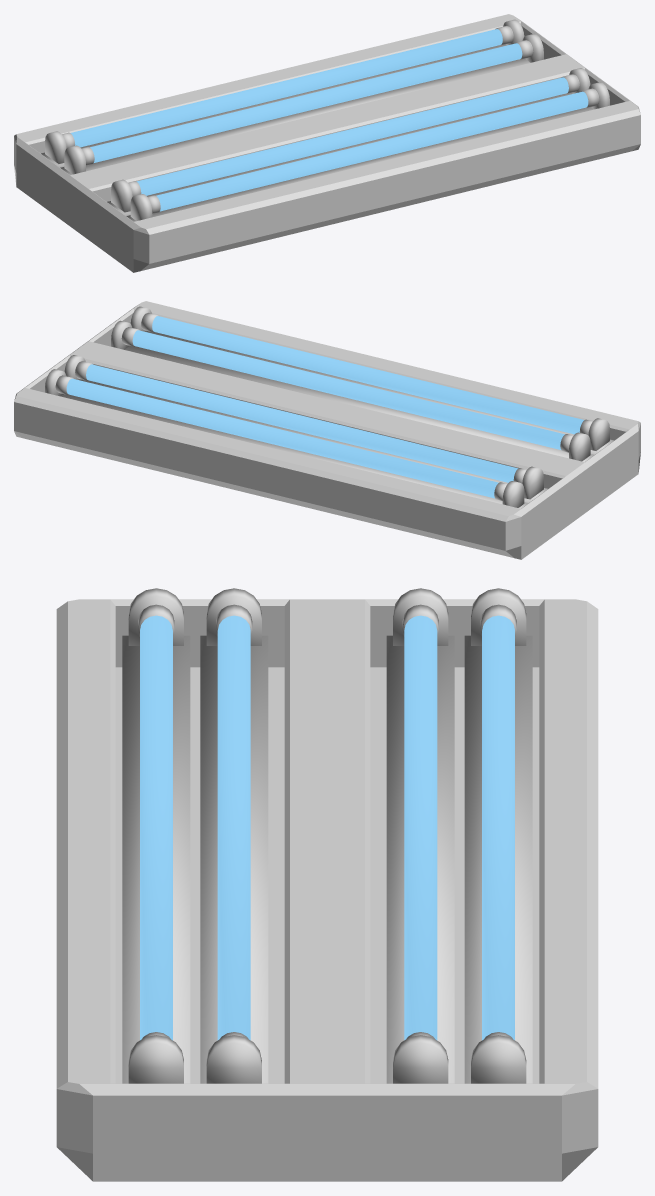
The model's file is 4TubeLight.glb.
3 renders of one model, top to bottom at view 1: azimuth 30°, elevation 25°; view 2: azimuth 150°, elevation 25°; view 3: azimuth 270°, elevation 25°, orthographic. The views are drawn at different scales.
Visible parts, largest first — view 1: TubeHolder, Light.003, Light.005, Light.004, Light.002, Tube.005, Tube.003, Tube.004, Tube.002, Handles.005, Handles.004, Handles.002 (+1 smaller); view 2: TubeHolder, Light.004, Light.002, Light.003, Light.005, Tube.002, Tube.004, Tube.003, Tube.005, Handles.002, Handles.003, Handles.005 (+1 smaller); view 3: TubeHolder, Tube.002, Tube.005, Tube.003, Tube.004, Light.002, Light.005, Light.003, Light.004, Handles.002, Handles.005, Handles.003 (+1 smaller).
Boxes of the visible parts, x1,y1,x2,y2 form: TubeHolder: (14,14,640,272); Light.003: (147,88,599,213); Light.005: (81,40,533,165); Light.004: (62,26,513,147); Light.002: (128,74,579,196); Tube.005: (60,59,530,175); Tube.003: (126,107,593,221); Tube.004: (41,44,506,167); Tube.002: (107,93,572,215); Handles.005: (64,33,543,174); Handles.004: (45,19,524,163); Handles.002: (111,68,590,212); TubeHolder: (14,301,640,559); Light.004: (55,375,507,500); Light.002: (121,327,573,452); Light.003: (141,313,592,434); Light.005: (75,361,526,483); Tube.002: (124,346,594,462); Tube.004: (61,394,528,508); Tube.003: (148,331,613,454); Tube.005: (82,380,547,502); Handles.002: (111,320,590,461); Handles.003: (130,306,609,450); Handles.005: (64,355,543,499); TubeHolder: (56,599,598,1181); Tube.002: (200,635,268,1083); Tube.005: (386,635,454,1083); Tube.003: (122,635,190,1083); Tube.004: (464,635,532,1083); Light.002: (216,604,252,1040); Light.005: (402,604,438,1040); Light.003: (138,604,174,1040); Light.004: (480,604,516,1040); Handles.002: (206,588,261,1083); Handles.005: (393,588,448,1083); Handles.003: (128,588,183,1083).
Size of the model in its own units: 7.5 by 0.8489 by 3.48.
